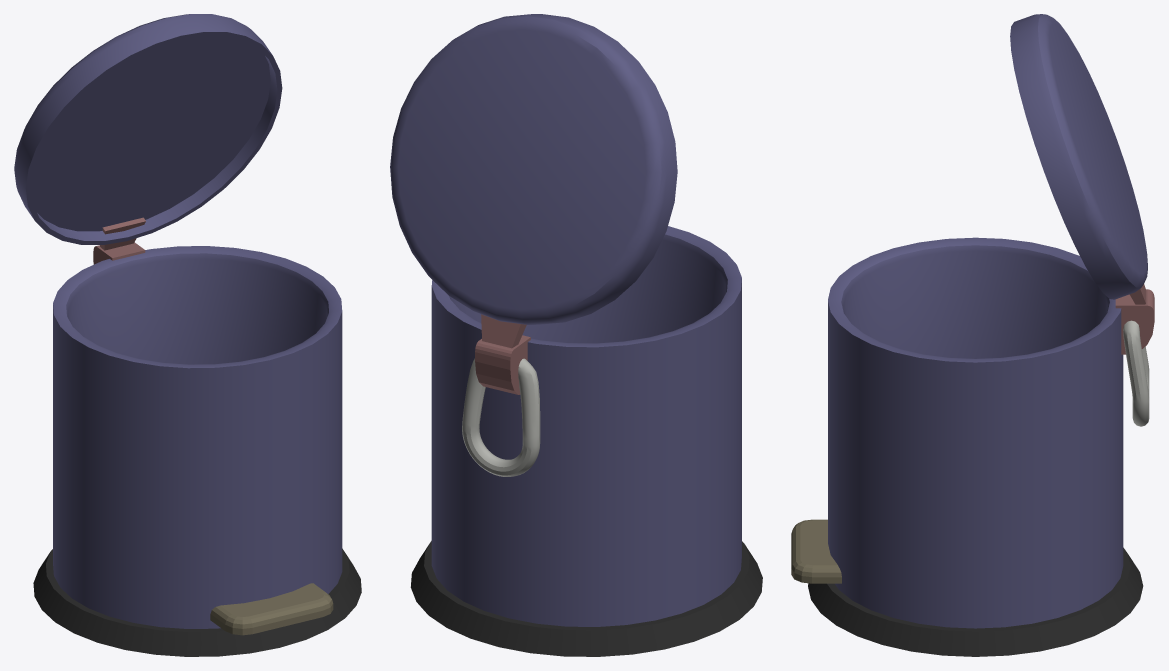
File: TrashCan.fbx
The picture shows the model from 3 angles, left to right: view 1: azimuth 30°, elevation 25°; view 2: azimuth 150°, elevation 25°; view 3: azimuth 270°, elevation 25°; orthographic projection. The views are drawn at different scales.
Parts seen in each view (by area): view 1: TrashMid, TrashTop, TrashBottom, TrashTrigger, TrashBindBottom, TrashBindTop; view 2: TrashMid, TrashTop, TrashBottom, TrashCricle, TrashBindBottom, TrashBindTop; view 3: TrashMid, TrashTop, TrashBottom, TrashTrigger, TrashCricle, TrashBindBottom.
Part boxes in pixels (x1,y1,x2,y2): TrashMid: [53, 246, 342, 628]; TrashTop: [14, 14, 282, 244]; TrashBottom: [33, 548, 361, 656]; TrashTrigger: [210, 583, 333, 635]; TrashBindBottom: [93, 242, 145, 264]; TrashBindTop: [100, 217, 145, 250]; TrashMid: [431, 226, 741, 626]; TrashTop: [390, 14, 677, 324]; TrashBottom: [410, 541, 762, 656]; TrashCricle: [462, 358, 540, 476]; TrashBindBottom: [475, 335, 530, 394]; TrashBindTop: [481, 314, 526, 348]; TrashMid: [828, 237, 1123, 628]; TrashTop: [1010, 14, 1147, 299]; TrashBottom: [808, 547, 1143, 656]; TrashTrigger: [791, 519, 841, 583]; TrashCricle: [1123, 320, 1149, 426]; TrashBindBottom: [1115, 289, 1154, 354].
Size of the model in its own units: 45.41 by 83.32 by 49.14.
